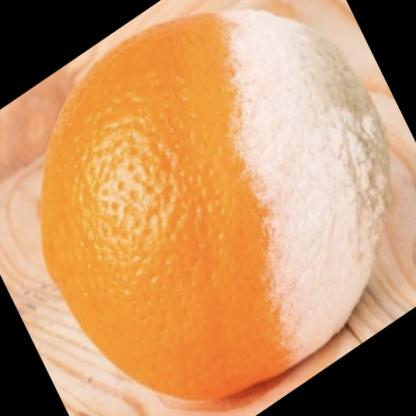rotten: (43, 13, 386, 403)
